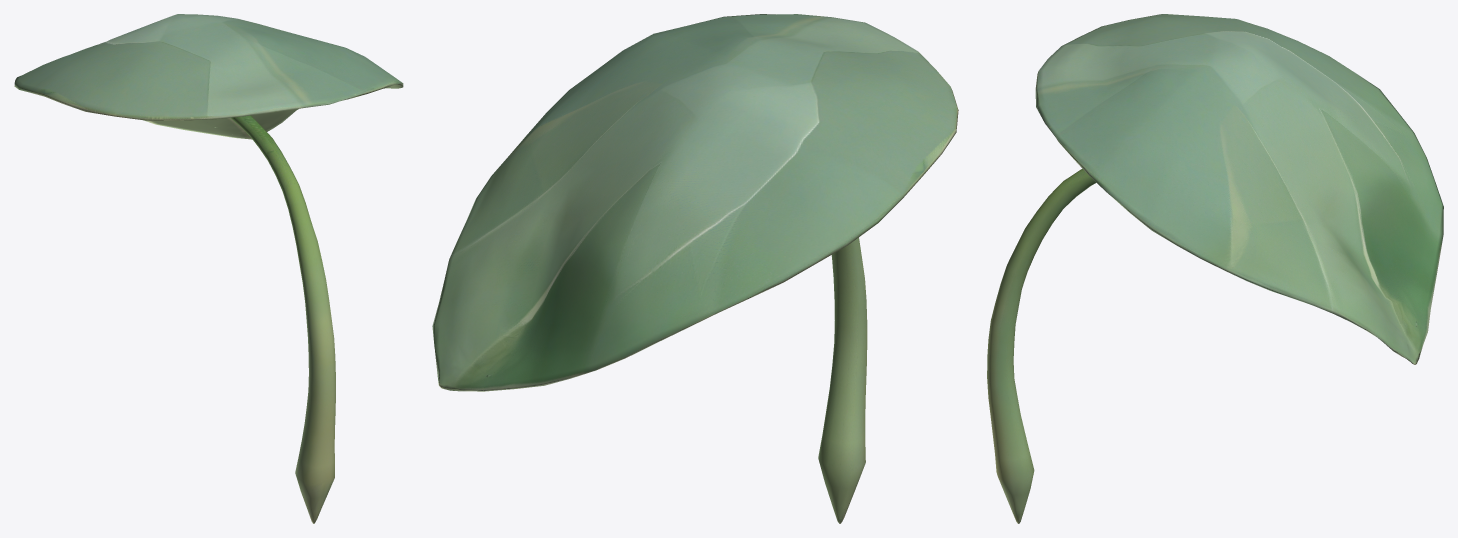
The model's file is monstera_leaf_young_albo.glb.
3 renders of one model, left to right at view 1: azimuth 30°, elevation 25°; view 2: azimuth 150°, elevation 25°; view 3: azimuth 270°, elevation 25°, orthographic. The views are drawn at different scales.
Bounding box in the file's own units: 1.63 × 2 × 1.8.
1 material, 1 textured.
